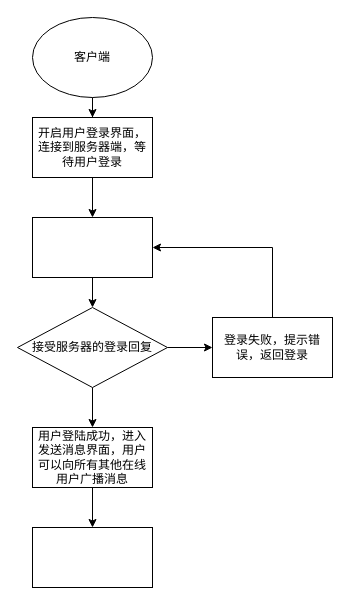
Some shapes in this 350 by 605 pixel diagram are drawn without their labels. Here are the shapes that lost their labels. From the top down, the box of each, then its label:
(32, 216, 152, 278): 用户输入账户与密码，并发送登录请求
(32, 526, 152, 588): 用户终止程序
